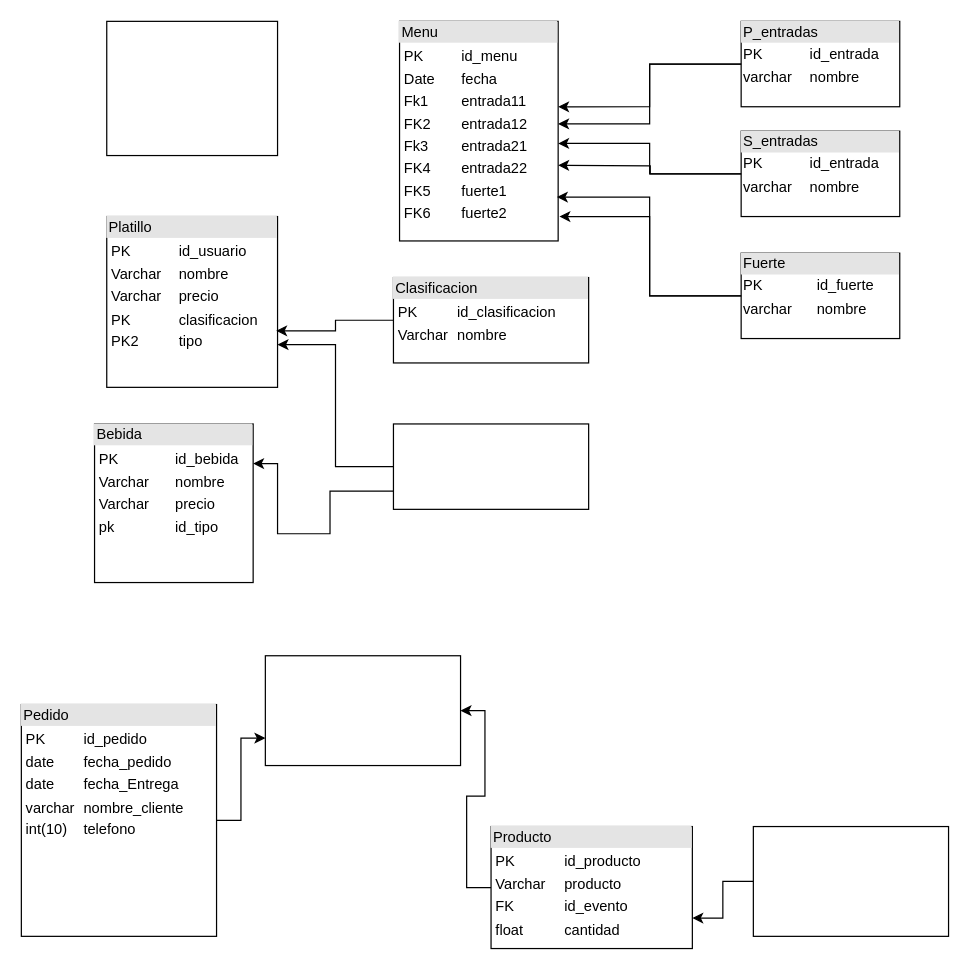
The diagram is 970 pixels wide and 970 high, and some of its shapes have lost their labels. Here are the shapes that lost their labels. From the top down, the centre of each, then its label:
the point at 192,88: Root PK id_usuario Varchar user Varchar password
the point at 490,466: Tipo PK id_tipo Varchar nombre
the point at 362,710: Orden PK id_orden fk id_pedido id_producto fecha_inicio
the point at 850,880: Evento PK id_clasificacion Varchar nombre date fecha_inicio date decha_fin
